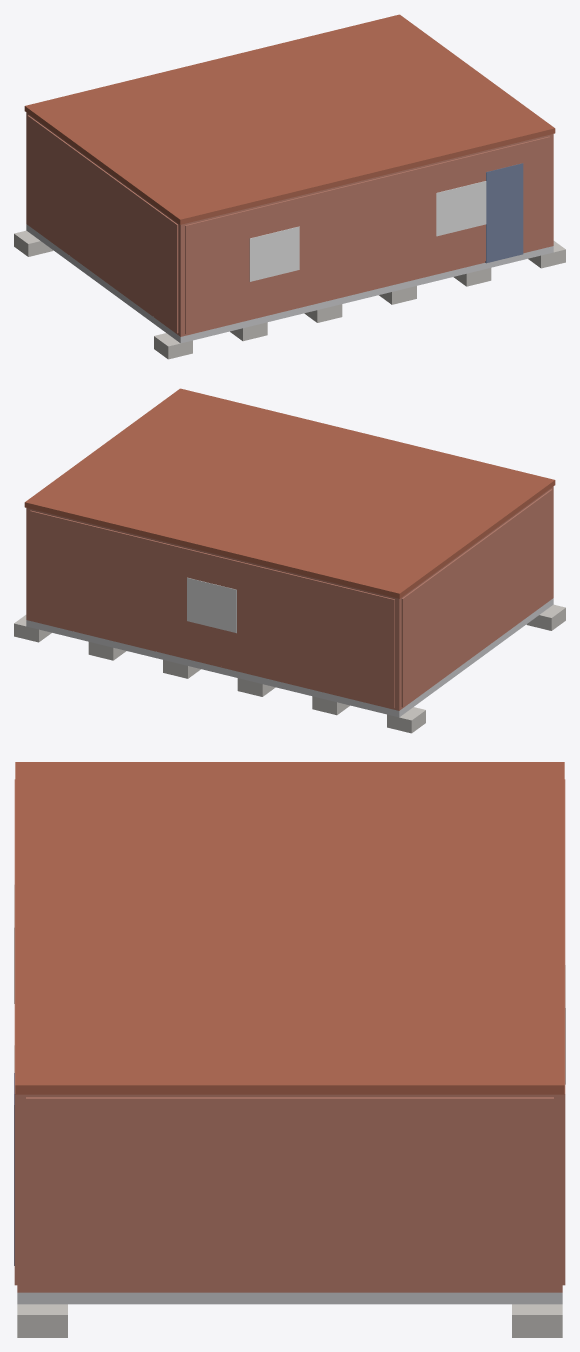
Rendered from Studio-30-Base-OxidisedRed-LOD0.glb.
The picture shows the model from 3 angles, top to bottom: view 1: azimuth 30°, elevation 25°; view 2: azimuth 150°, elevation 25°; view 3: azimuth 270°, elevation 25°; orthographic projection. The views are drawn at different scales.
Parts seen in each view (by area): view 1: RoofMain, ExteriorPanelsStandard, WindowsStandard, BaseFrame, FoundationBlocks, ExteriorShell, EntryDoor; view 2: RoofMain, ExteriorPanelsStandard, BaseFrame, FoundationBlocks, ExteriorShell, WindowsStandard; view 3: RoofMain, ExteriorPanelsStandard, ExteriorShell, BaseFrame, FoundationBlocks.
Boxes of the visible parts, x1,y1,x2,y2 form: RoofMain: (24,14,555,224); ExteriorPanelsStandard: (27,115,550,334); WindowsStandard: (249,181,486,281); BaseFrame: (26,224,553,343); FoundationBlocks: (14,230,565,359); ExteriorShell: (26,112,553,336); EntryDoor: (485,163,523,263); RoofMain: (24,388,555,598); ExteriorPanelsStandard: (30,489,552,708); BaseFrame: (26,598,553,717); FoundationBlocks: (14,604,565,733); ExteriorShell: (26,486,553,710); WindowsStandard: (187,577,236,633); RoofMain: (15,762,564,1094); ExteriorPanelsStandard: (14,779,565,1289); ExteriorShell: (17,1094,562,1292); BaseFrame: (17,1292,562,1304); FoundationBlocks: (17,1304,562,1337).
Size of the model in its own units: 9.6 by 3.17 by 6.53.
